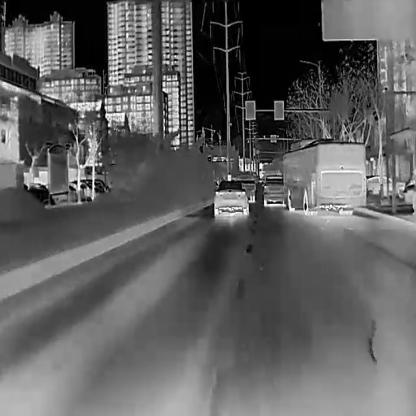bus: (282, 138, 364, 215)
car: (212, 180, 248, 216), (71, 178, 104, 201), (262, 174, 285, 206), (365, 174, 405, 192), (235, 172, 255, 202), (90, 177, 110, 196)
